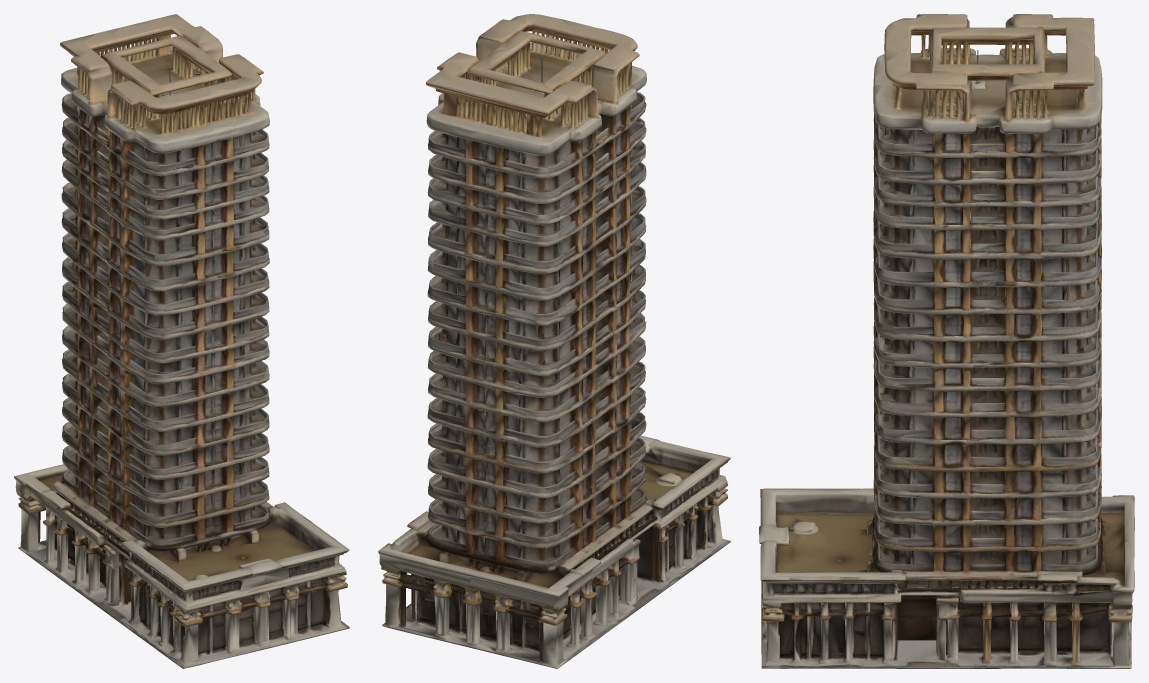
The model's file is tower-a.glb.
The picture shows the model from 3 angles, left to right: view 1: azimuth 30°, elevation 25°; view 2: azimuth 150°, elevation 25°; view 3: azimuth 270°, elevation 25°; orthographic projection. The views are drawn at different scales.
Visible parts, largest first — view 1: tripo_node_9bff2619-b20b-43eb-bb0d-91e530670c16; view 2: tripo_node_9bff2619-b20b-43eb-bb0d-91e530670c16; view 3: tripo_node_9bff2619-b20b-43eb-bb0d-91e530670c16.
Part boxes in pixels (x1,y1,x2,y2): tripo_node_9bff2619-b20b-43eb-bb0d-91e530670c16: (14, 14, 349, 668); tripo_node_9bff2619-b20b-43eb-bb0d-91e530670c16: (378, 14, 730, 668); tripo_node_9bff2619-b20b-43eb-bb0d-91e530670c16: (759, 14, 1134, 668).
Size of the model in its own units: 0.8776 by 2.5 by 1.48.
Materials: 1 (1 with a texture image).
